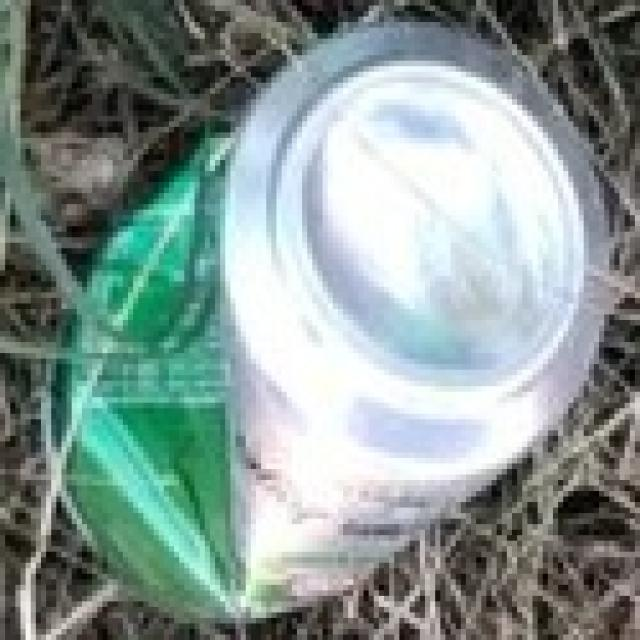can: (36, 0, 635, 618)
